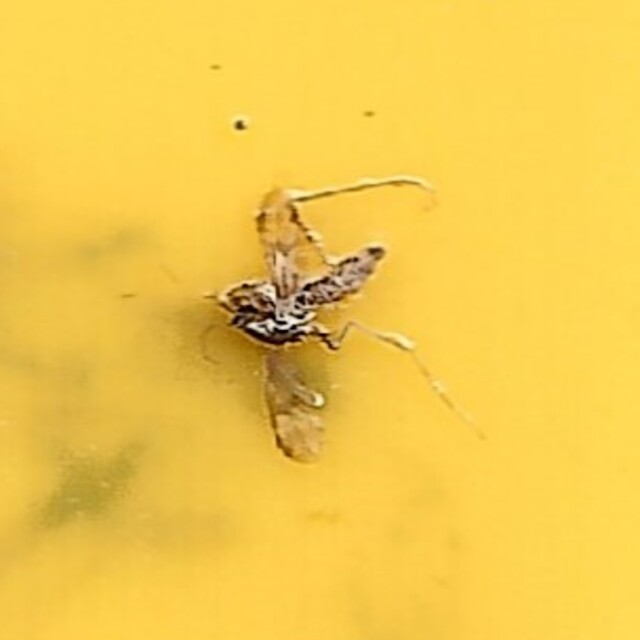Nematocera: (211, 177, 429, 463)
